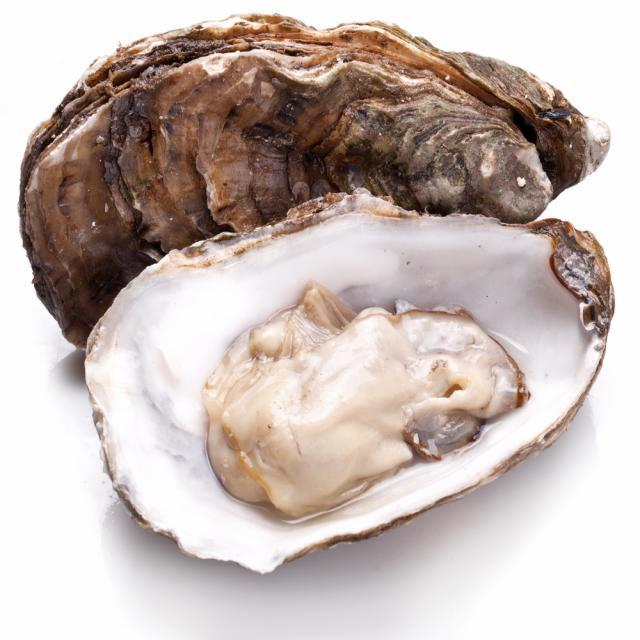Oyster-Closed: (17, 14, 612, 351)
Oyster-Open: (85, 194, 616, 576)
